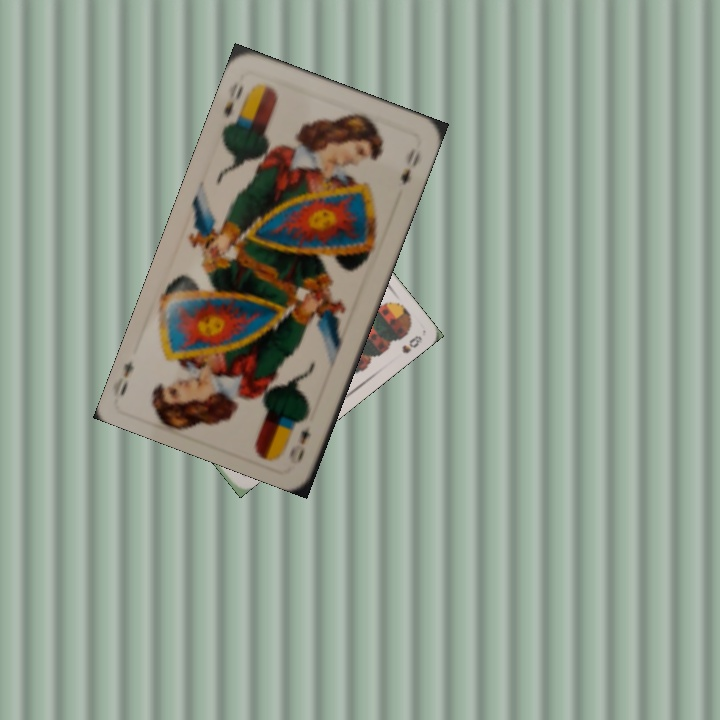EO: (219, 80, 256, 130), (284, 421, 313, 467)
